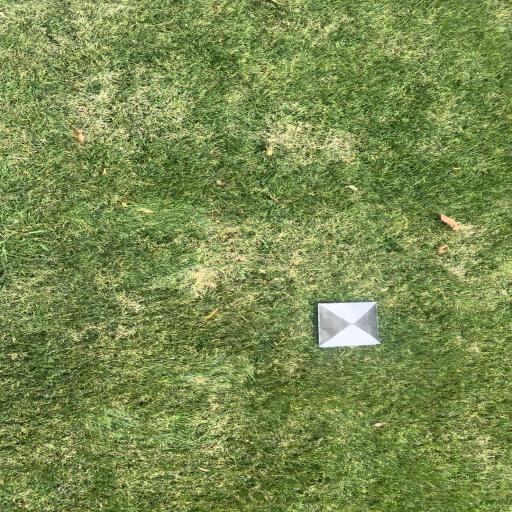target: (317, 304, 380, 344)
